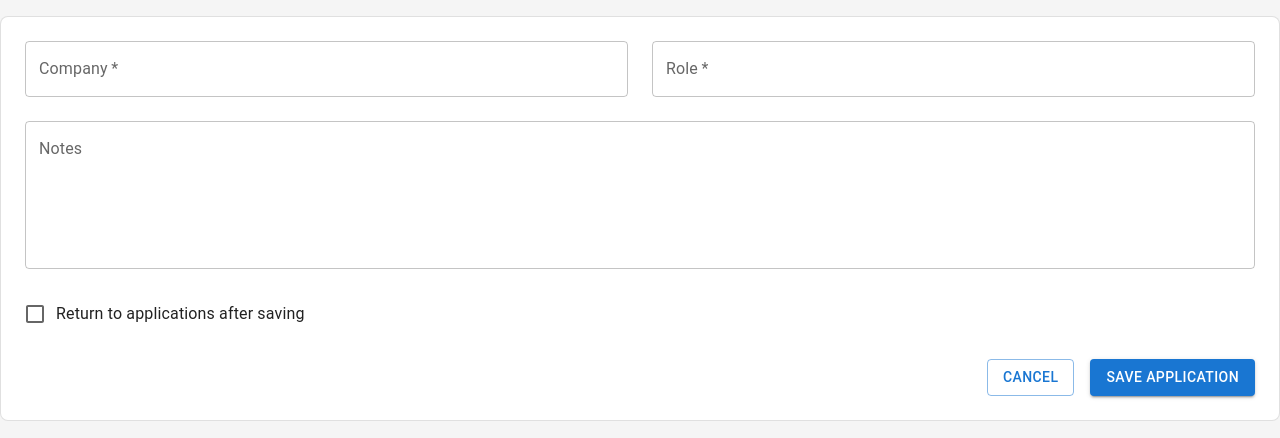
Test case: ApplicationForm › changes Cancel to Reset when the form becomes dirty
Type "Google" into the field labelled "Company *". click: {"x": 326, "y": 69}
box: x1=25 y1=41 x2=628 y2=97
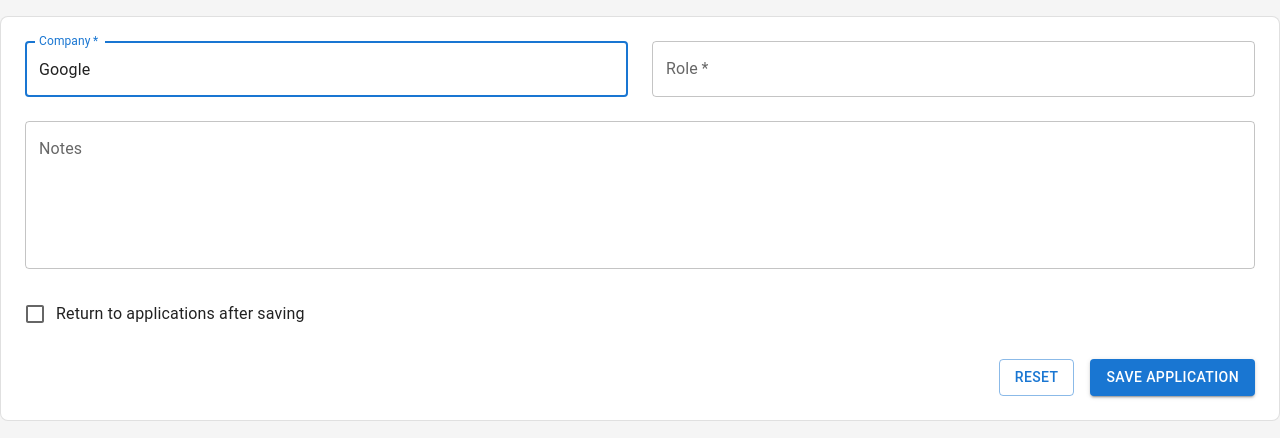
Now the button "Reset" is shown, box x1=999 y1=359 x2=1074 y2=396
Now the button "Cancel" is gone
